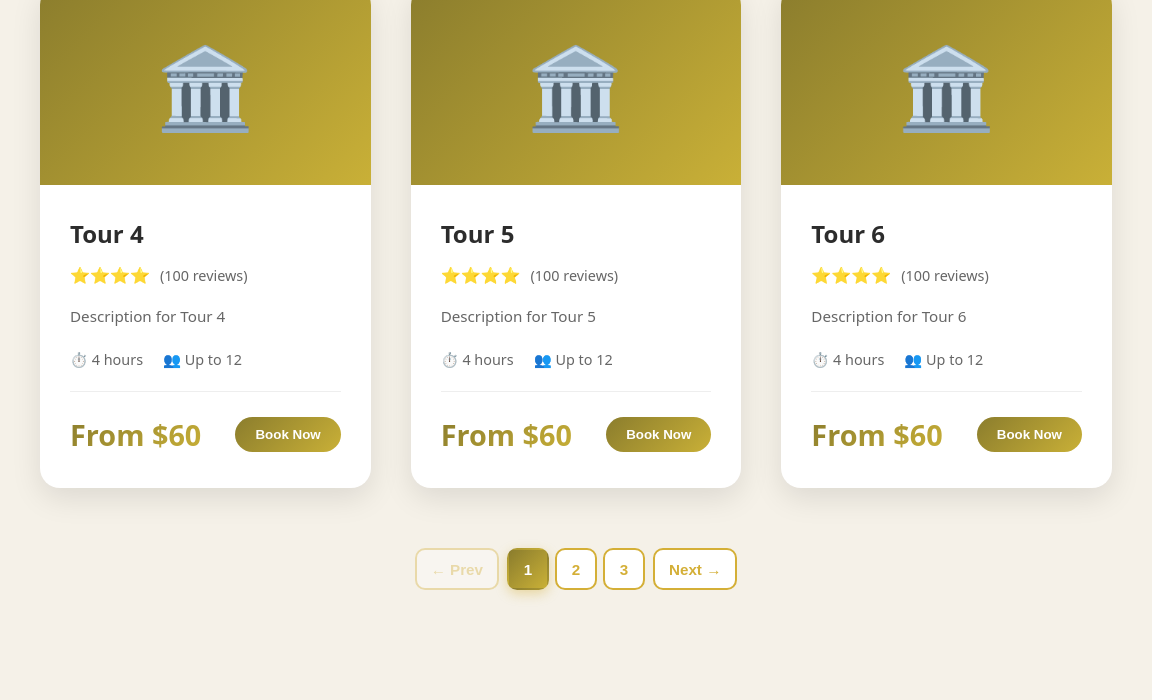
Test: ToursSection › navigates to the next page when next button is clicked
The image size is (1152, 700).
(page scrolled)
Click the button with aria-label "next page": (695, 569) [653,548,737,590]
(page scrolled)
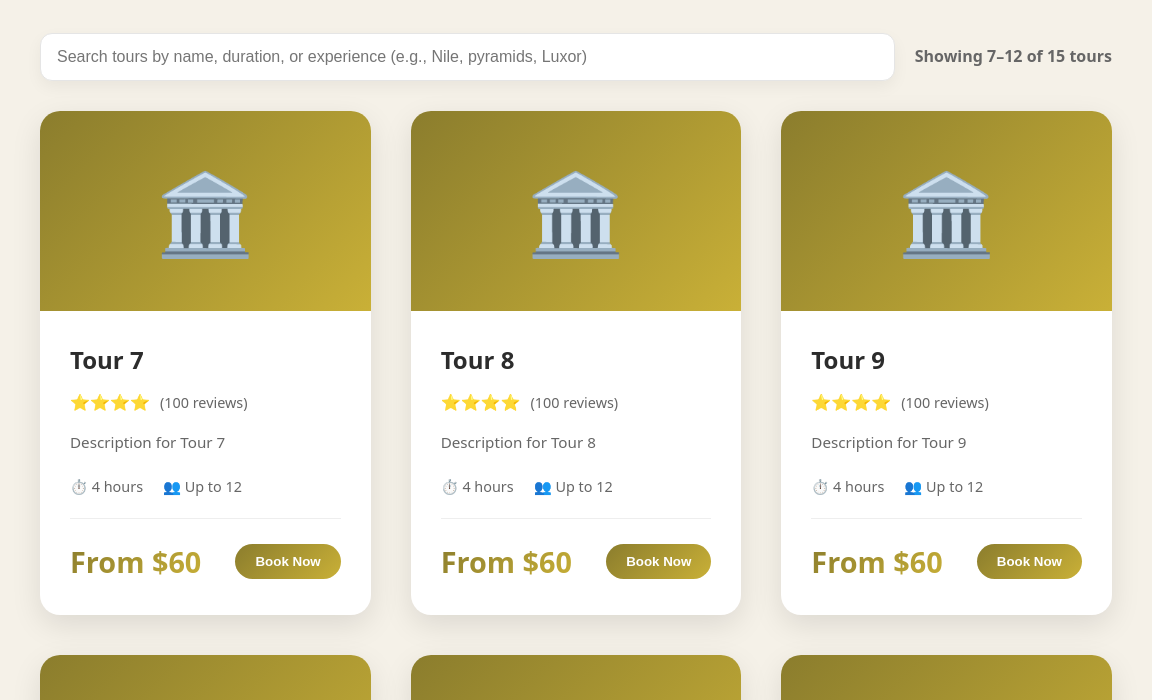
Check: the heading "Tour 7" is shown, box [70,343,144,376]
